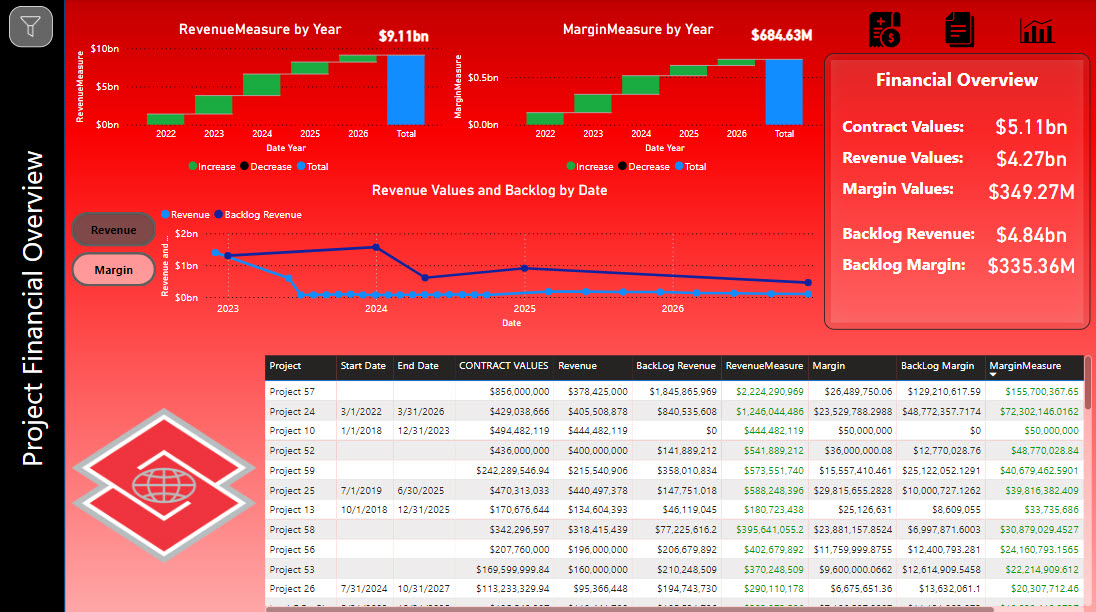

The dashboard page shown, as its layout file describes it:
{"tool":"powerbi","page":{"name":"Finance Overview","canvas":[1280,720],"ordinal":0},"visuals":[{"type":"shape","box":[0,0,80.5,720.5],"z":0},{"type":"basicShape","title":"Summary Background","box":[963.4,63.1,309.9,322],"z":0,"group":"g1"},{"type":"card","title":"Contract Values","fields":{"Values":["Sum(Contract Values.- CONTRACT - VALUES )"]},"box":[1129.8,128.8,150.3,40.3],"z":1000,"group":"g1"},{"type":"tableEx","fields":{"Values":["Master Work List.Project","Master Work List.Start Date.1","Master Work List.End Date.1","Sum(Contract Values.- CONTRACT - VALUES )","Sum(Revenue.Value)","Sum(Backlog Revenue.Value)","Backlog Revenue.RevenueMeasure","Sum(Margin.Value)","Sum(Backlog Margin.Value)","Backlog Margin.MarginMeasure","Master Work List.ContractDiffMeasure"]},"box":[307.2,409.6,972.8,310.7],"z":1000},{"type":"card","title":"Revenue Values","fields":{"Values":["Sum(Revenue.Value)"]},"box":[1129.8,165.1,150.3,40.3],"z":2000,"group":"g1"},{"type":"lineChart","title":"Revenue Values and Backlog by Date","fields":{"Y":["Sum(Revenue.Value)","Sum(Backlog Revenue.Value)"],"Category":["DateTable.Date"]},"box":[186.5,212,776.9,175.8],"z":2000},{"type":"card","title":"Margin Values","fields":{"Values":["Sum(Margin.Value)"]},"box":[1129.8,204,150.3,40.3],"z":3000,"group":"g1"},{"type":"image","title":"Filter","box":[14.8,8.1,51,48.3],"z":4000},{"type":"card","title":"Backlog Revenue","fields":{"Values":["Sum(Backlog Revenue.Value)"]},"box":[1129.8,253.6,150.3,40.3],"z":4000,"group":"g1"},{"type":"actionButton","title":"Revenue Button","box":[87.2,248.2,99.3,40.3],"z":5000},{"type":"card","title":"Backlog Margin","fields":{"Values":["Sum(Backlog Margin.Value)"]},"box":[1129.8,289.9,150.3,40.3],"z":5000,"group":"g1"},{"type":"textbox","title":"Recorder Name Title","box":[979.5,130.2,162.3,36.2],"z":6000,"group":"g1"},{"type":"actionButton","title":"Margin Button","box":[87.2,293.8,99.3,40.3],"z":6000},{"type":"textbox","title":"Recorder Name Title","box":[979.5,166.4,162.3,36.2],"z":7000,"group":"g1"},{"type":"textbox","title":"Recorder Name Title","box":[979.5,202.6,162.3,36.2],"z":8000,"group":"g1"},{"type":"actionButton","title":"Revenue Shade","box":[87.2,248.2,99.3,40.3],"z":8000},{"type":"waterfallChart","fields":{"Category":["DateTable.Date.Variation.Date Hierarchy.Year","DateTable.Date.Variation.Date Hierarchy.Quarter"],"Y":["Backlog Revenue.RevenueMeasure"]},"box":[87.2,24.2,440.1,187.8],"z":9000},{"type":"textbox","title":"Recorder Name Title","box":[979.5,255,173.1,36.2],"z":9000,"group":"g1"},{"type":"card","fields":{"Values":["Backlog Revenue.RevenueMeasure"]},"box":[432,22.8,85.9,40.3],"z":10000},{"type":"textbox","title":"Recorder Name Title","box":[979.5,291.2,173.1,36.2],"z":10000,"group":"g1"},{"type":"waterfallChart","fields":{"Category":["DateTable.Date.Variation.Date Hierarchy.Year","DateTable.Date.Variation.Date Hierarchy.Quarter"],"Y":["Backlog Margin.MarginMeasure"]},"box":[527.3,24.2,440.1,187.8],"z":11000},{"type":"textbox","title":"Case Specifics Title","box":[963.4,73.8,309.9,45.6],"z":11000,"group":"g1"},{"type":"card","fields":{"Values":["Backlog Margin.MarginMeasure"]},"box":[862.7,28.2,104.7,29.5],"z":12000},{"type":"group","id":"g1","title":"FinOverview Window","box":[963.4,63.1,316.6,322],"z":14000},{"type":"image","box":[65.6,412.9,256.4,306.9],"z":15000},{"type":"image","box":[1096.1,8.1,51.2,55.9],"z":16000},{"type":"image","box":[1008.9,8.1,51.2,54.7],"z":17000},{"type":"image","box":[1186.9,9.3,51.2,54.7],"z":18000}]}

Visuals, with their boxes in screenshot pixels (x1, y1, x2, y2), scaled from the page's 1280x720 canvas onto the 1096x612 screenshot:
shape: 0/0/69/611
"Summary Background" basicShape: 825/54/1090/327
"Contract Values" card: 967/109/1095/144
tableEx - Master Work List.Project x Master Work List.Start Date.1: 263/348/1095/611
"Revenue Values" card: 967/140/1095/175
"Revenue Values and Backlog by Date" lineChart: 160/180/825/330
"Margin Values" card: 967/173/1095/208
"Filter" image: 13/7/56/48
"Backlog Revenue" card: 967/216/1095/250
"Revenue Button" actionButton: 75/211/160/245
"Backlog Margin" card: 967/246/1095/281
"Recorder Name Title" textbox: 839/111/978/141
"Margin Button" actionButton: 75/250/160/284
"Recorder Name Title" textbox: 839/141/978/172
"Recorder Name Title" textbox: 839/172/978/203
"Revenue Shade" actionButton: 75/211/160/245
waterfallChart - DateTable.Date.Variation.Date Hierarchy.Year x DateTable.Date.Variation.Date Hierarchy.Quarter: 75/21/452/180
"Recorder Name Title" textbox: 839/217/987/248
card - Backlog Revenue.RevenueMeasure: 370/19/443/54
"Recorder Name Title" textbox: 839/248/987/278
waterfallChart - DateTable.Date.Variation.Date Hierarchy.Year x DateTable.Date.Variation.Date Hierarchy.Quarter: 452/21/828/180
"Case Specifics Title" textbox: 825/63/1090/101
card - Backlog Margin.MarginMeasure: 739/24/828/49
"FinOverview Window" group: 825/54/1095/327
image: 56/351/276/611
image: 939/7/982/54
image: 864/7/908/53
image: 1016/8/1060/54
